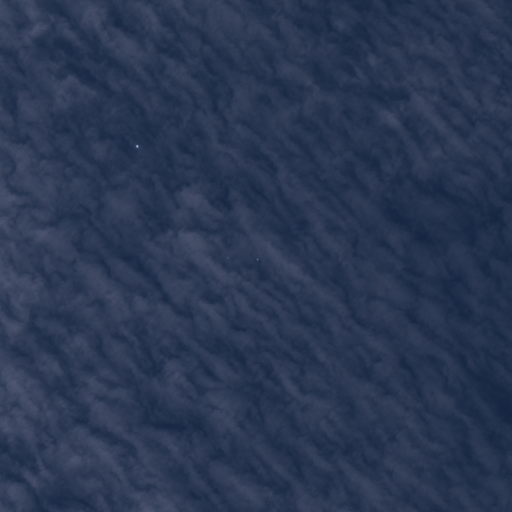Iceberg: (136, 145, 138, 147), (256, 258, 258, 260)
